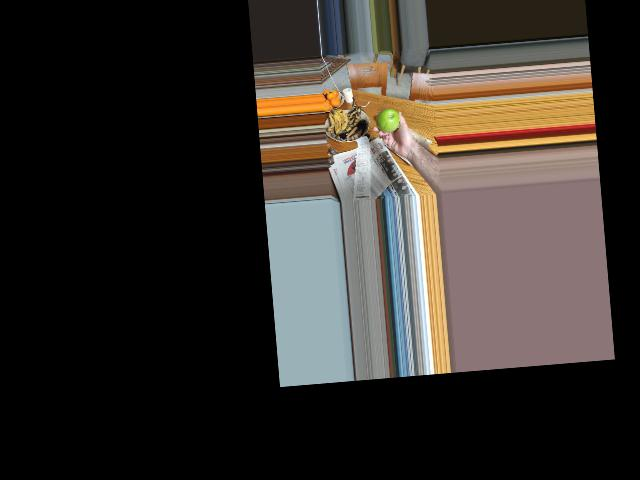apple: (375, 107, 402, 132)
